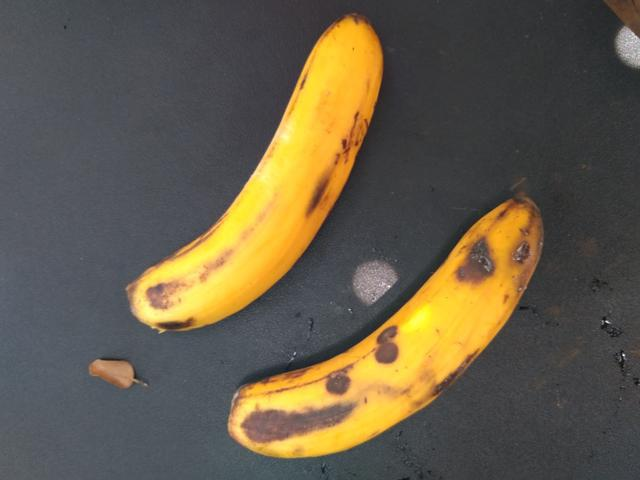overripe: (210, 174, 577, 477), (104, 8, 392, 361)
